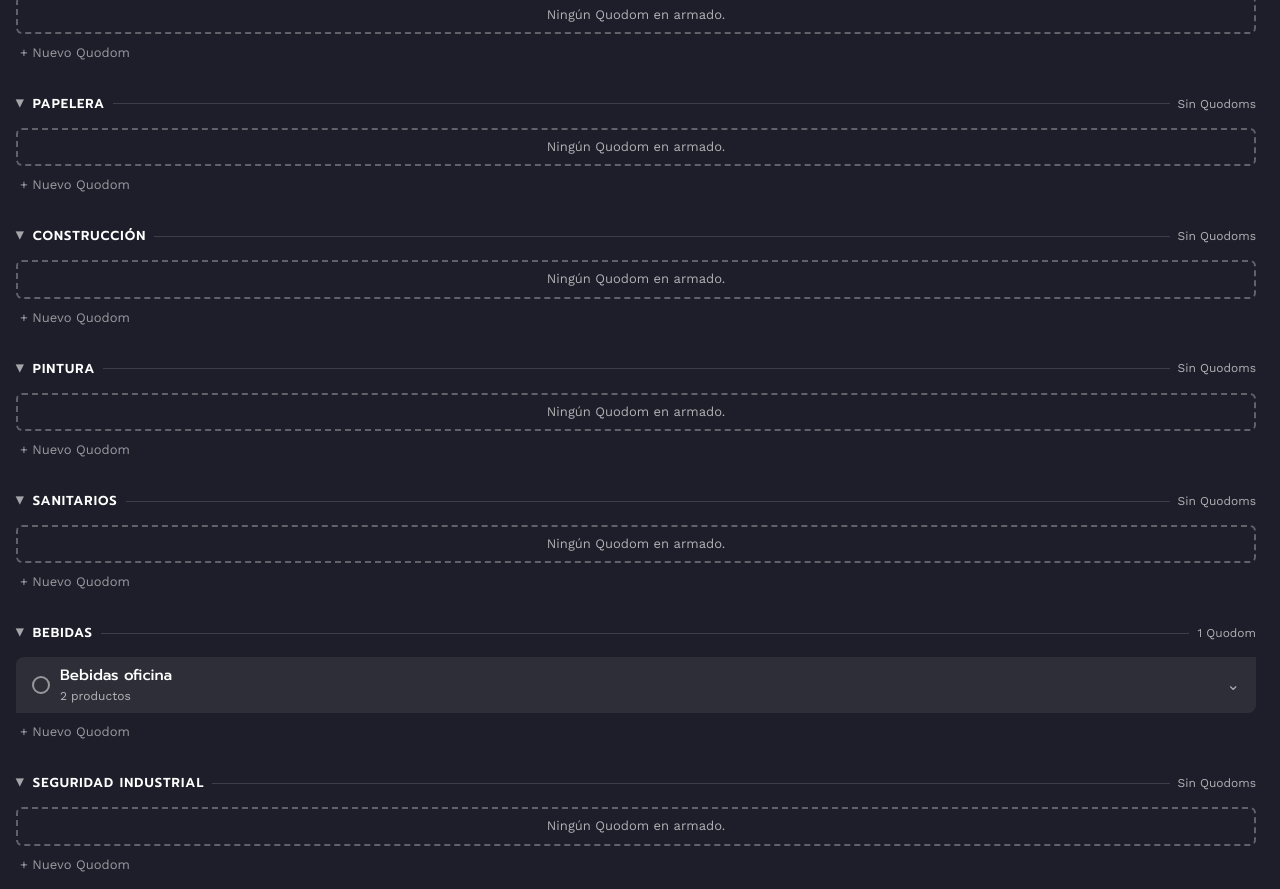
Test case: sidebar: mini editor › un producto agregado desde el catálogo aparece en la lista abierta
The image size is (1280, 889).
(page scrolled)
Click the text "Bebidas oficina" at [116, 676], box [60,664,172,686]
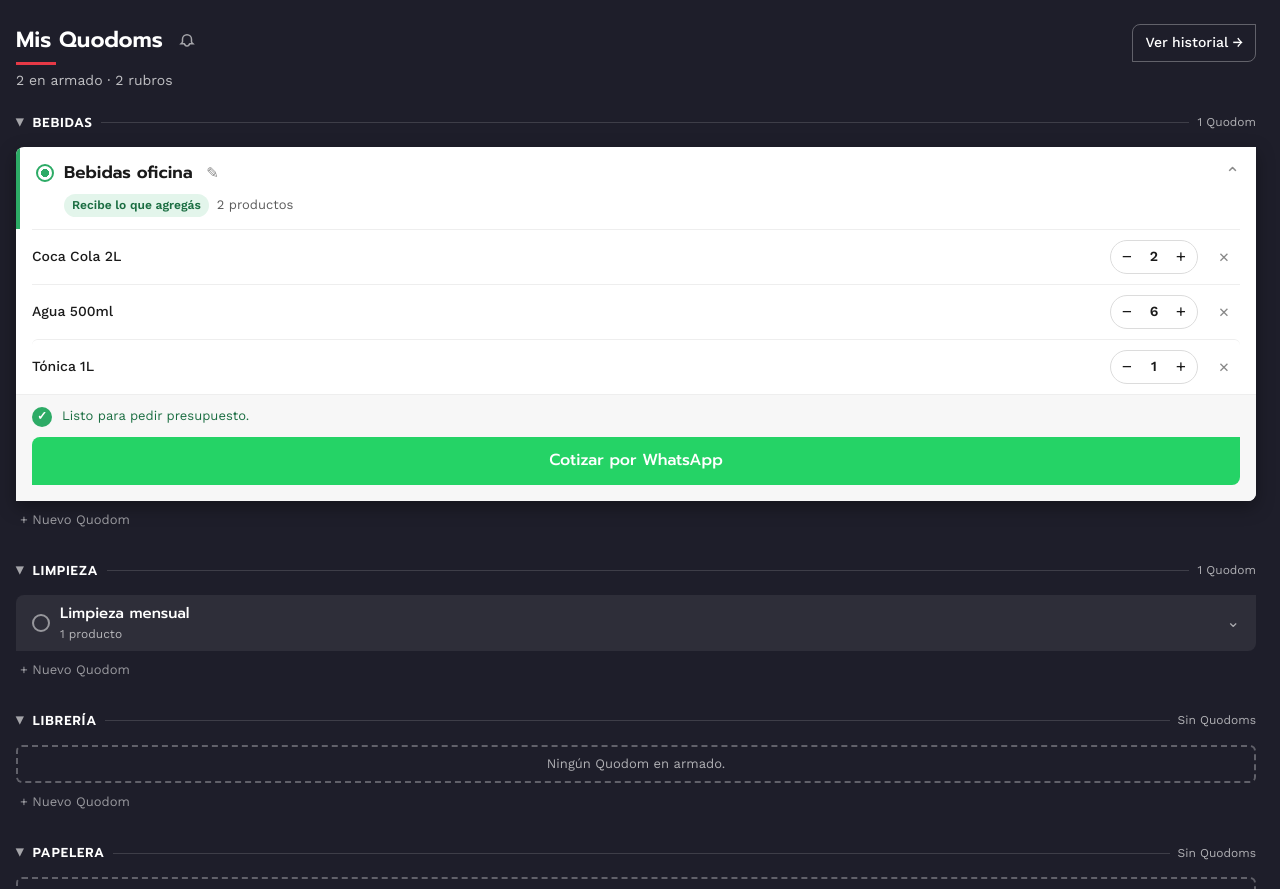
Check: the text "Coca Cola 2L" is shown, box [32,248,121,266]
Check: the text "Tónica 1L" is shown, box [32,358,94,376]
